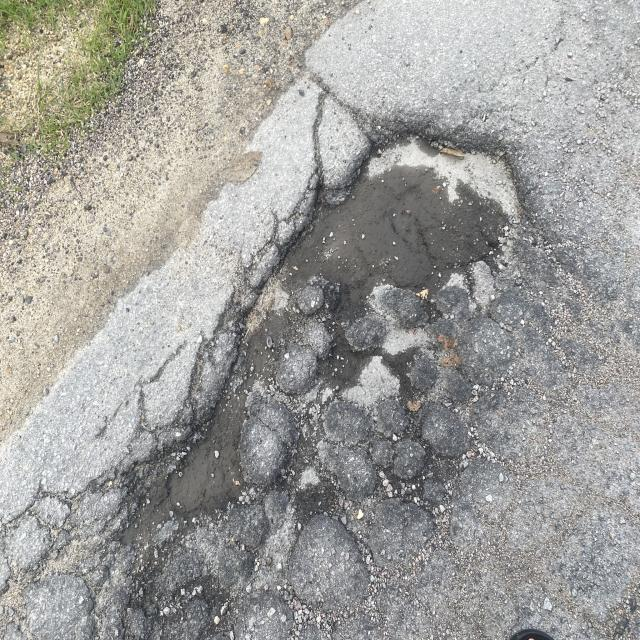pothole: (80, 57, 560, 518)
